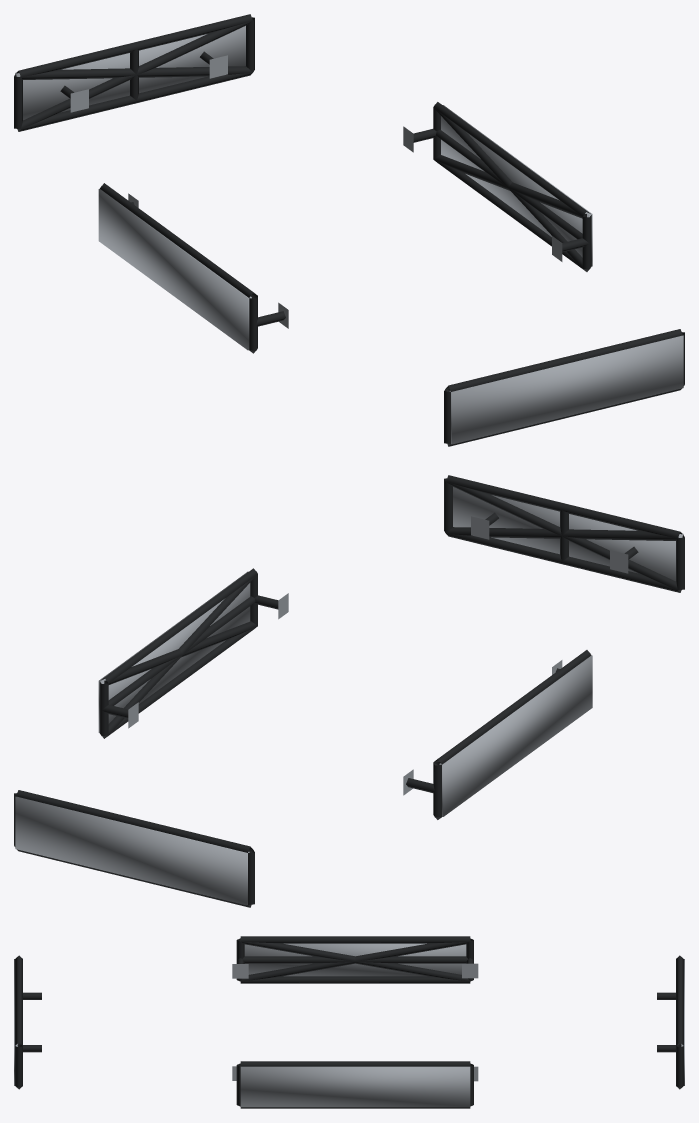
The model's file is rauhe_cursor_protecao.glb.
3 views of the same model, one above another, from view 1: azimuth 30°, elevation 25°; view 2: azimuth 150°, elevation 25°; view 3: azimuth 270°, elevation 25° (orthographic). The views are drawn at different scales.
Visible parts, largest first — view 1: Protection_front_Level3_Details, Protection_left_Level3_Details, Protection_rear_Level1_Details, Protection_rear_Level3_Details, Protection_right_Level1_Details, Protection_rear_Level2_Details, Protection_right_Level2_Details, Protection_right_Level3_Details, Protection_front_Level1_Details, Protection_left_Level1_Details; view 2: Protection_rear_Level3_Details, Protection_left_Level3_Details, Protection_front_Level1_Details, Protection_front_Level3_Details, Protection_right_Level1_Details, Protection_front_Level2_Details, Protection_right_Level2_Details, Protection_right_Level3_Details, Protection_rear_Level1_Details, Protection_left_Level1_Details; view 3: Protection_right_Level3_Details, Protection_left_Level2_Details, Protection_left_Level1_Details, Protection_left_Level3_Details, Protection_right_Level1_Details, Protection_rear_Level1_Details, Protection_front_Level1_Details.
Boxes of the visible parts, x1=… form: Protection_front_Level3_Details: x1=449, y1=335, x2=683, y2=444; Protection_left_Level3_Details: x1=98, y1=188, x2=251, y2=350; Protection_rear_Level1_Details: x1=14, y1=14, x2=254, y2=131; Protection_rear_Level3_Details: x1=15, y1=26, x2=245, y2=120; Protection_right_Level1_Details: x1=403, y1=102, x2=591, y2=271; Protection_rear_Level2_Details: x1=16, y1=21, x2=252, y2=130; Protection_right_Level2_Details: x1=433, y1=108, x2=590, y2=271; Protection_right_Level3_Details: x1=441, y1=105, x2=592, y2=266; Protection_front_Level1_Details: x1=444, y1=329, x2=684, y2=446; Protection_left_Level1_Details: x1=100, y1=183, x2=288, y2=353; Protection_rear_Level3_Details: x1=15, y1=796, x2=249, y2=905; Protection_left_Level3_Details: x1=439, y1=655, x2=592, y2=816; Protection_front_Level1_Details: x1=444, y1=475, x2=684, y2=592; Protection_front_Level3_Details: x1=453, y1=487, x2=683, y2=581; Protection_right_Level1_Details: x1=99, y1=568, x2=288, y2=738; Protection_front_Level2_Details: x1=446, y1=482, x2=682, y2=591; Protection_right_Level2_Details: x1=101, y1=574, x2=257, y2=738; Protection_right_Level3_Details: x1=98, y1=571, x2=250, y2=732; Protection_rear_Level1_Details: x1=14, y1=790, x2=254, y2=907; Protection_left_Level1_Details: x1=403, y1=650, x2=591, y2=819; Protection_right_Level3_Details: x1=240, y1=1066, x2=470, y2=1107; Protection_left_Level2_Details: x1=240, y1=939, x2=470, y2=981; Protection_left_Level1_Details: x1=232, y1=936, x2=478, y2=983; Protection_left_Level3_Details: x1=244, y1=943, x2=466, y2=976; Protection_right_Level1_Details: x1=232, y1=1061, x2=478, y2=1108; Protection_rear_Level1_Details: x1=657, y1=955, x2=683, y2=1089; Protection_front_Level1_Details: x1=15, y1=955, x2=41, y2=1089.
Size of the model in its own units: 2.08 by 0.354 by 4.56.
1 material, 1 textured.
